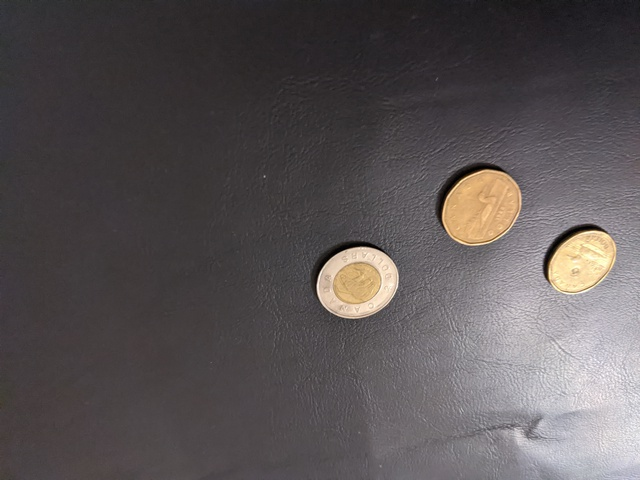loonie: (438, 152, 529, 252), (531, 230, 626, 287)
twonie: (310, 241, 410, 321)
